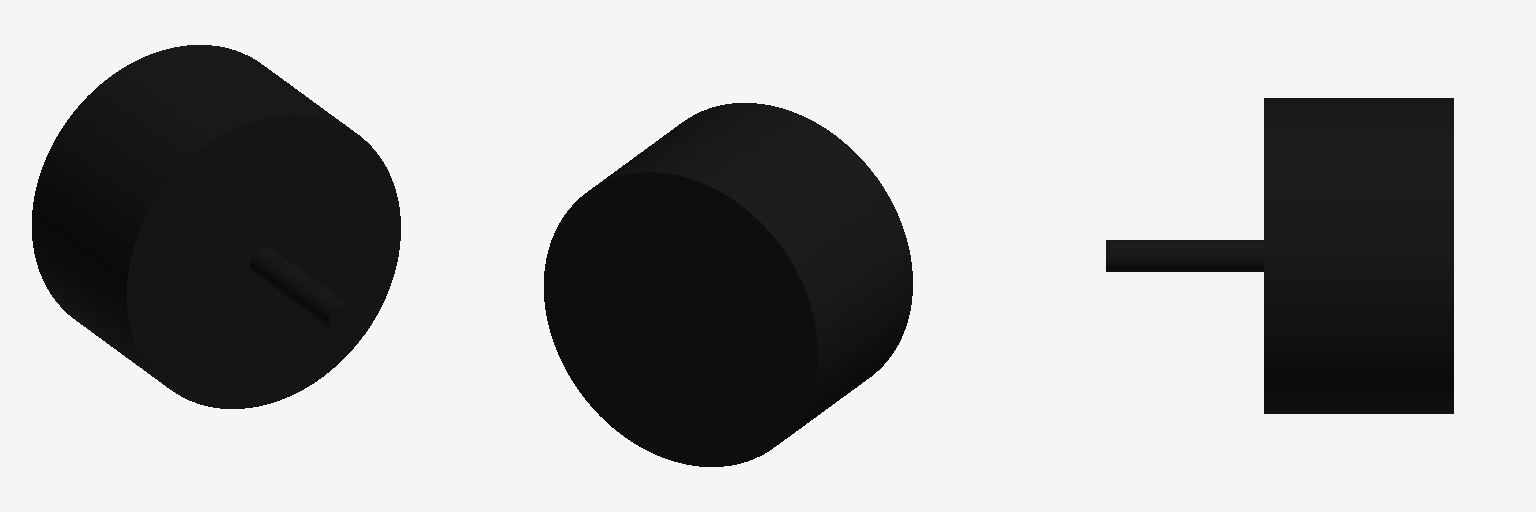
Rendered from Motor.obj.
The picture shows the model from 3 angles: view 1: azimuth 30°, elevation 25°; view 2: azimuth 150°, elevation 25°; view 3: azimuth 270°, elevation 25°; orthographic projection.
Visible parts, largest first — view 1: Motor_Motor_v3; view 2: Motor_Motor_v3; view 3: Motor_Motor_v3.
Part boxes in pixels (x1,y1,x2,y2): Motor_Motor_v3: (32,45,400,408); Motor_Motor_v3: (544,103,912,466); Motor_Motor_v3: (1106,98,1453,413).
Bounding box in the file's own units: 0.02 × 0.02 × 0.022.